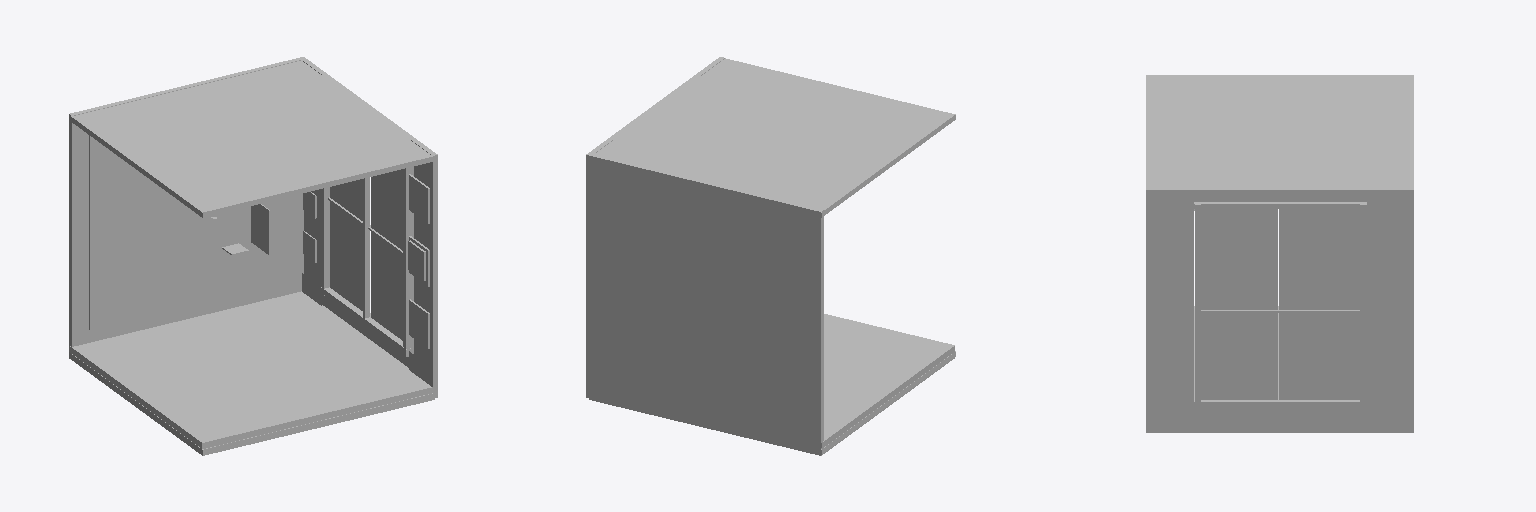
File: env.obj
The picture shows the model from 3 angles: view 1: azimuth 30°, elevation 25°; view 2: azimuth 150°, elevation 25°; view 3: azimuth 270°, elevation 25°; orthographic projection.
Parts seen in each view (by area): view 1: 07766c888c68f28681fb4e837ae3a503, Plane.002, Plane.004, Plane.014_Plane.015, Plane.003, Plane.013_Plane.014, Plane.012_Plane.013, Plane.018_Plane.020, Plane.017_Plane.019, Plane.011_Plane.012, Plane.001, Plane.016_Plane.018 (+9 smaller); view 2: Plane.004, Plane.002, 07766c888c68f28681fb4e837ae3a503, Plane.003, Plane.001; view 3: Plane.003, Plane.002, Plane.015_Plane.017, Plane.016_Plane.018, Plane.018_Plane.020, Plane.017_Plane.019, Cube.001_Cube.008, Cube.005_Cube.007, Cube_Cube.001, Cube.004_Cube.005, Plane.004.
Part boxes in pixels (x1,y1,x2,y2): 07766c888c68f28681fb4e837ae3a503: (69,291,434,455); Plane.002: (69,60,433,217); Plane.004: (69,57,303,346); Plane.014_Plane.015: (89,135,133,329); Plane.003: (301,57,437,397); Plane.013_Plane.014: (143,175,187,316); Plane.012_Plane.013: (196,209,239,304); Plane.018_Plane.020: (330,193,362,310); Plane.017_Plane.019: (371,214,402,340); Plane.011_Plane.012: (249,196,292,291); Plane.001: (69,352,434,454); Plane.016_Plane.018: (371,169,402,250); Plane.004: (589,153,823,454); Plane.002: (595,58,955,217); 07766c888c68f28681fb4e837ae3a503: (589,314,954,455); Plane.003: (586,57,724,397); Plane.001: (821,351,955,454); Plane.003: (1146,187,1413,432); Plane.002: (1146,75,1407,186); Plane.015_Plane.017: (1281,209,1359,309); Plane.016_Plane.018: (1201,209,1277,309); Plane.018_Plane.020: (1281,296,1359,399); Plane.017_Plane.019: (1201,296,1277,399); Cube.001_Cube.008: (1360,204,1366,410); Cube.005_Cube.007: (1194,397,1359,407); Cube_Cube.001: (1195,204,1200,410); Cube.004_Cube.005: (1194,202,1366,208); Plane.004: (1408,75,1413,187).
Size of the model in its own units: 23.68 by 22.96 by 22.82.